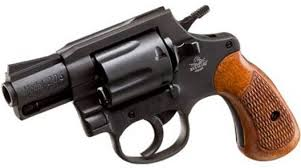gun: (2, 5, 300, 168)
